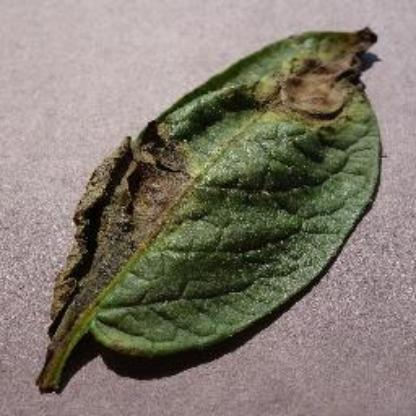Late-Blight: (28, 30, 402, 386)
